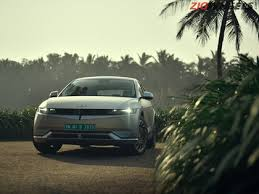Honda Ioniq: (31, 73, 157, 161)
